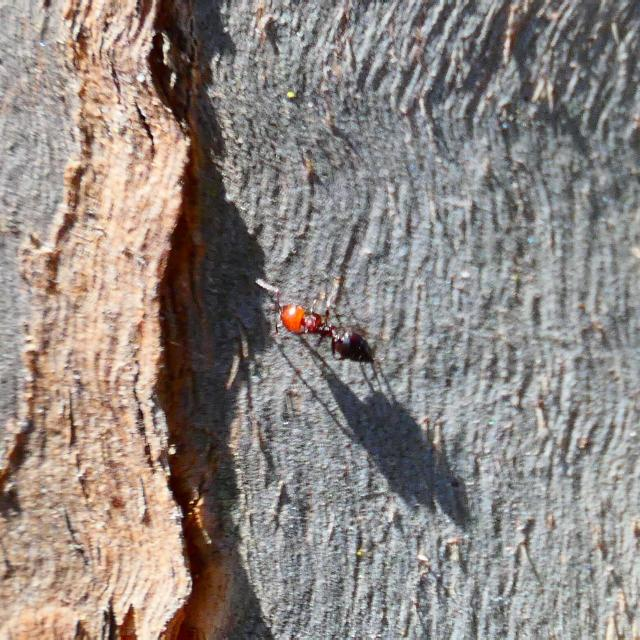Crematogaster: (246, 276, 392, 368)
